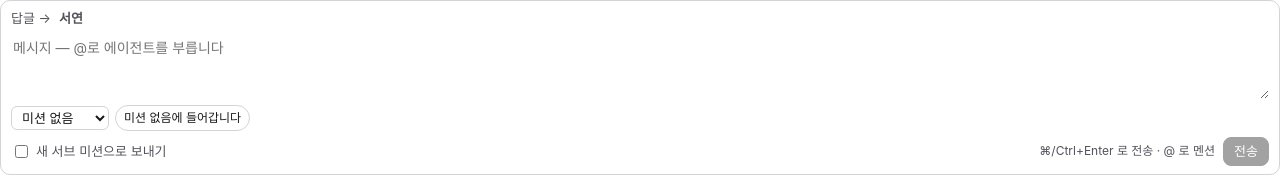
Composer — 미션 선택기 · 귀속 칩은 서버 미리보기(work · work_source)를 그대로 말한다 › 스레드 안(규칙 2 thread) — 선택기가 잠기고 사유는 글자로(「이 스레드는 미션 〈…〉의 것입니다」)
Type "답글" into the text box with test id "composer-input".
click(640, 66); type("답글")  # box [11,34,1269,98]
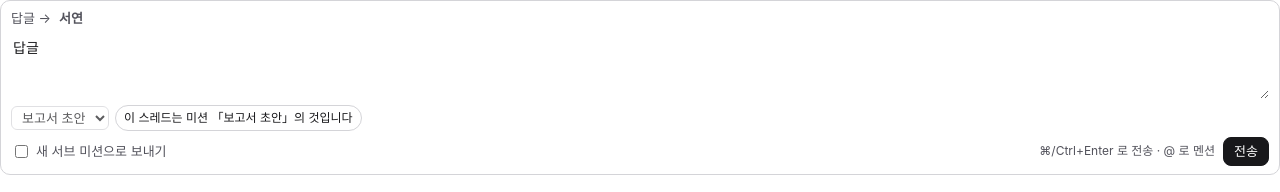
Result: the dropdown with test id "work-selector-select" is disabled at [11,106,109,130]
Result: the text with test id "chip-work" reads "이 스레드는 미션 「보고서 초안」의 것입니다" at [124,110,353,124]
